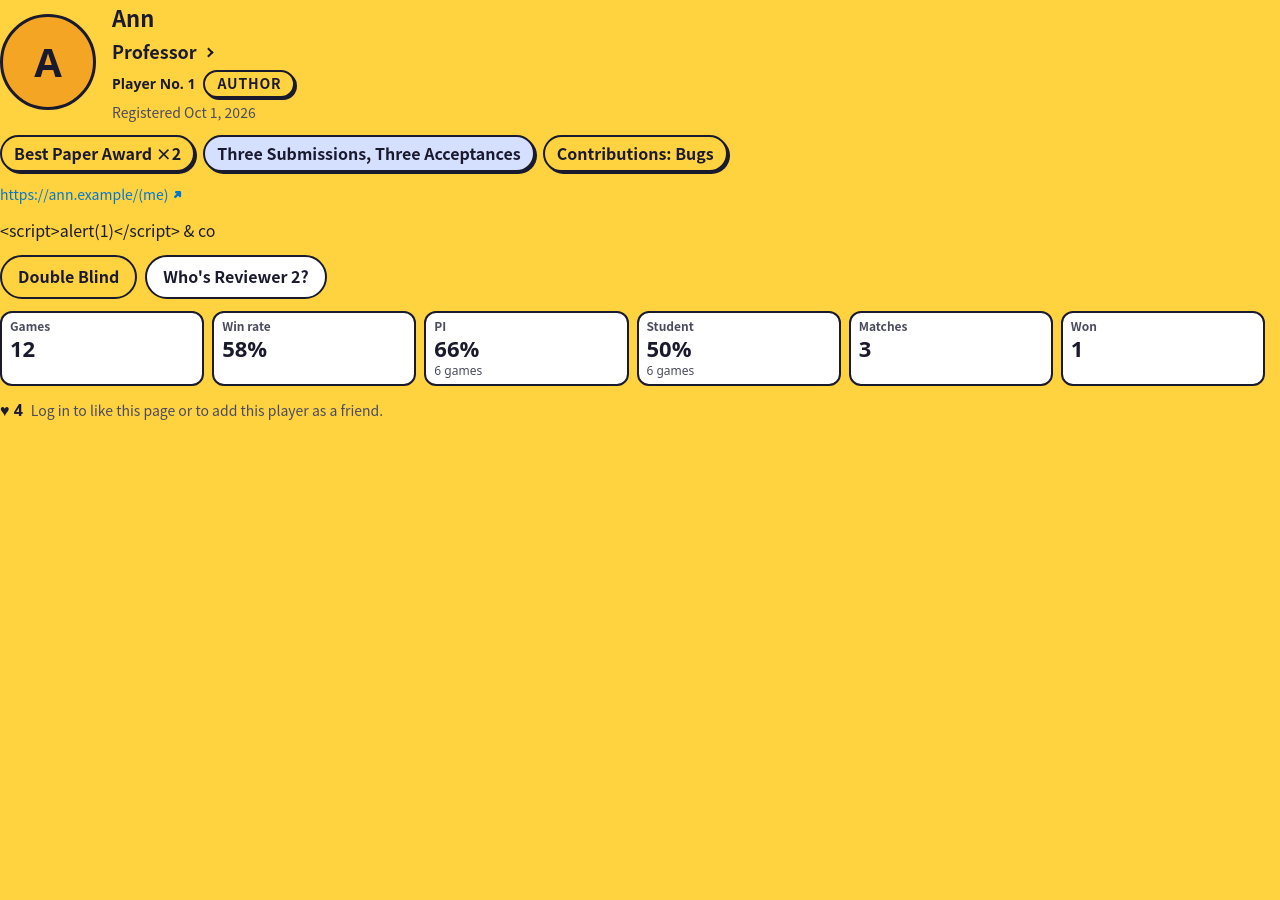
Test: ProfileCard › opens the ladder of ranks from the rank, with the rank marked and no points
The width and height of the screenshot is (1280, 900).
Click the button with class "rank-button" at (164, 52), box [104, 30, 225, 74]
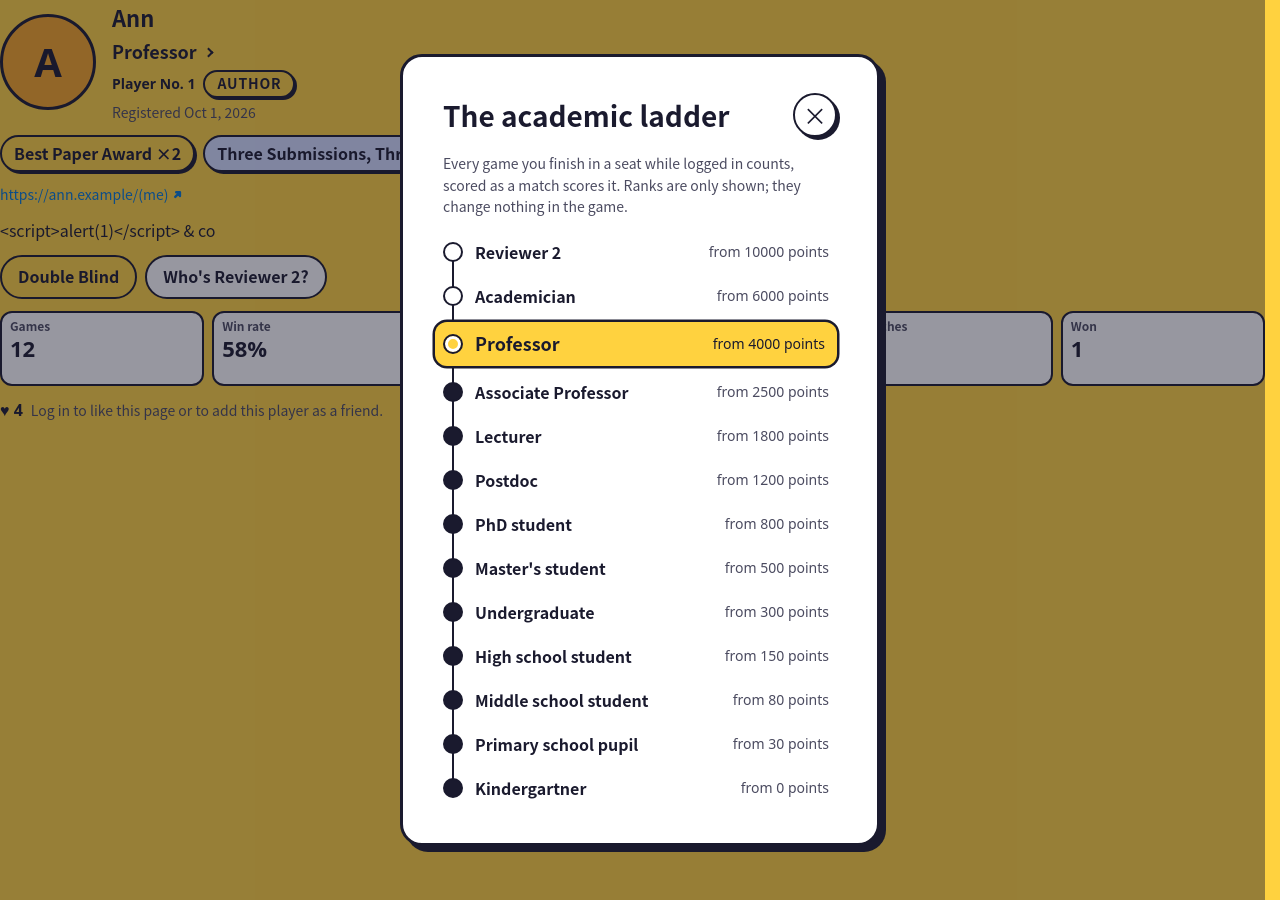
Check: the dialog shows "The academic ladder", box [443, 95, 729, 135]
Check: the list item with class "current" shows "Professor", box [475, 330, 560, 356]
